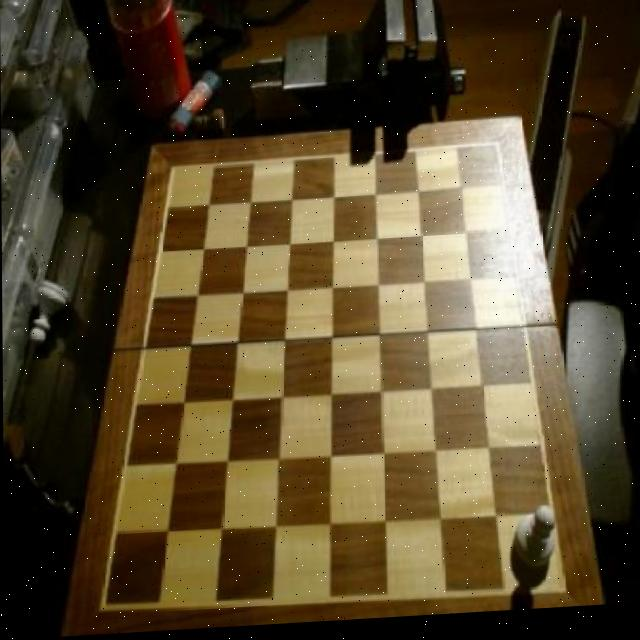white-knight: (511, 508, 556, 586)
